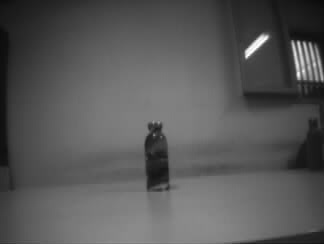Bottle: (143, 119, 169, 191)
